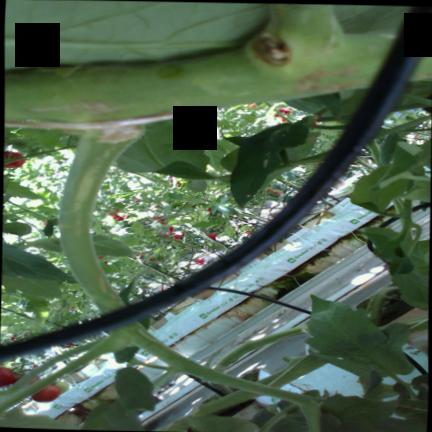6kp_petiole: (4, 51, 249, 245)
MainStem: (5, 25, 399, 123)
tomato: (31, 383, 60, 401), (3, 150, 24, 166), (0, 366, 15, 386)
